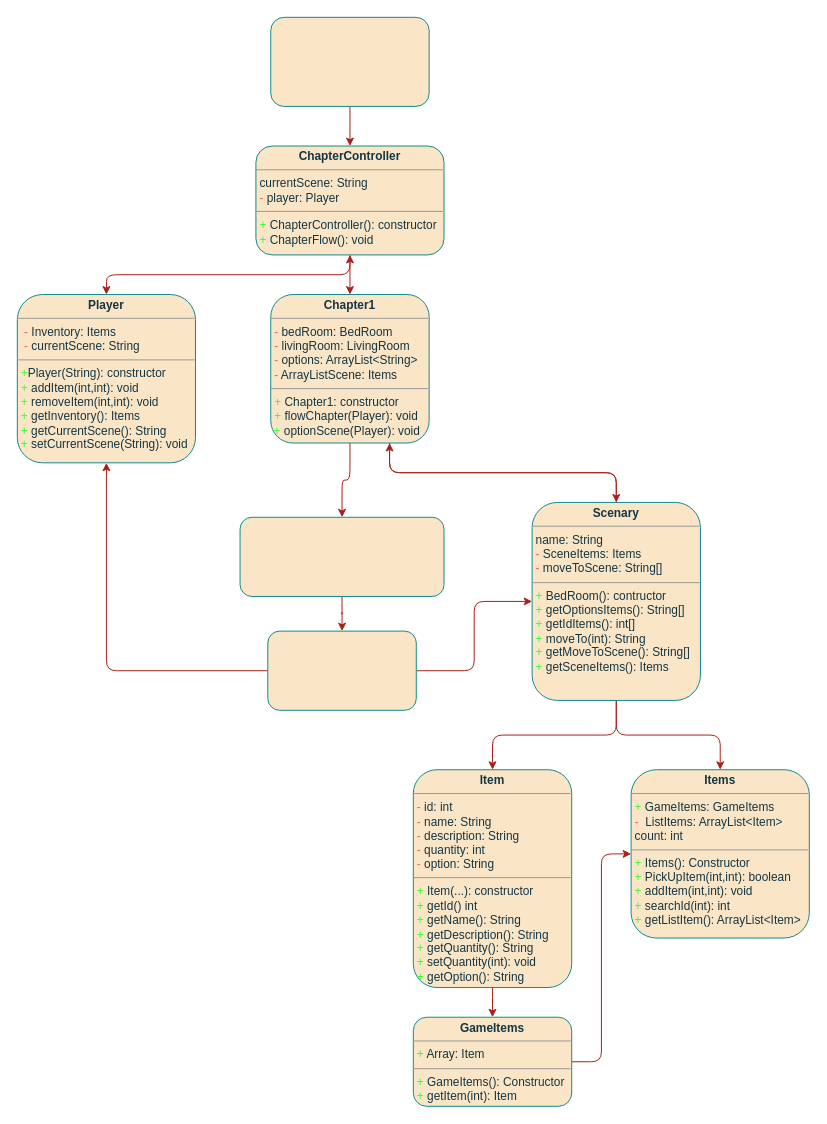
This 827x1124 diagram has some shape labels left out. The shapes that lost their labels are listed below. From the top down, each one's centre as x and y in pixels, then its label:
At point 349,61: "Main + main(String[] args): void".
At point 341,556: "Menu + showMenu(ArrayList<String>): void".
At point 341,670: "ControlOptions + ControlOptions(...): void".
